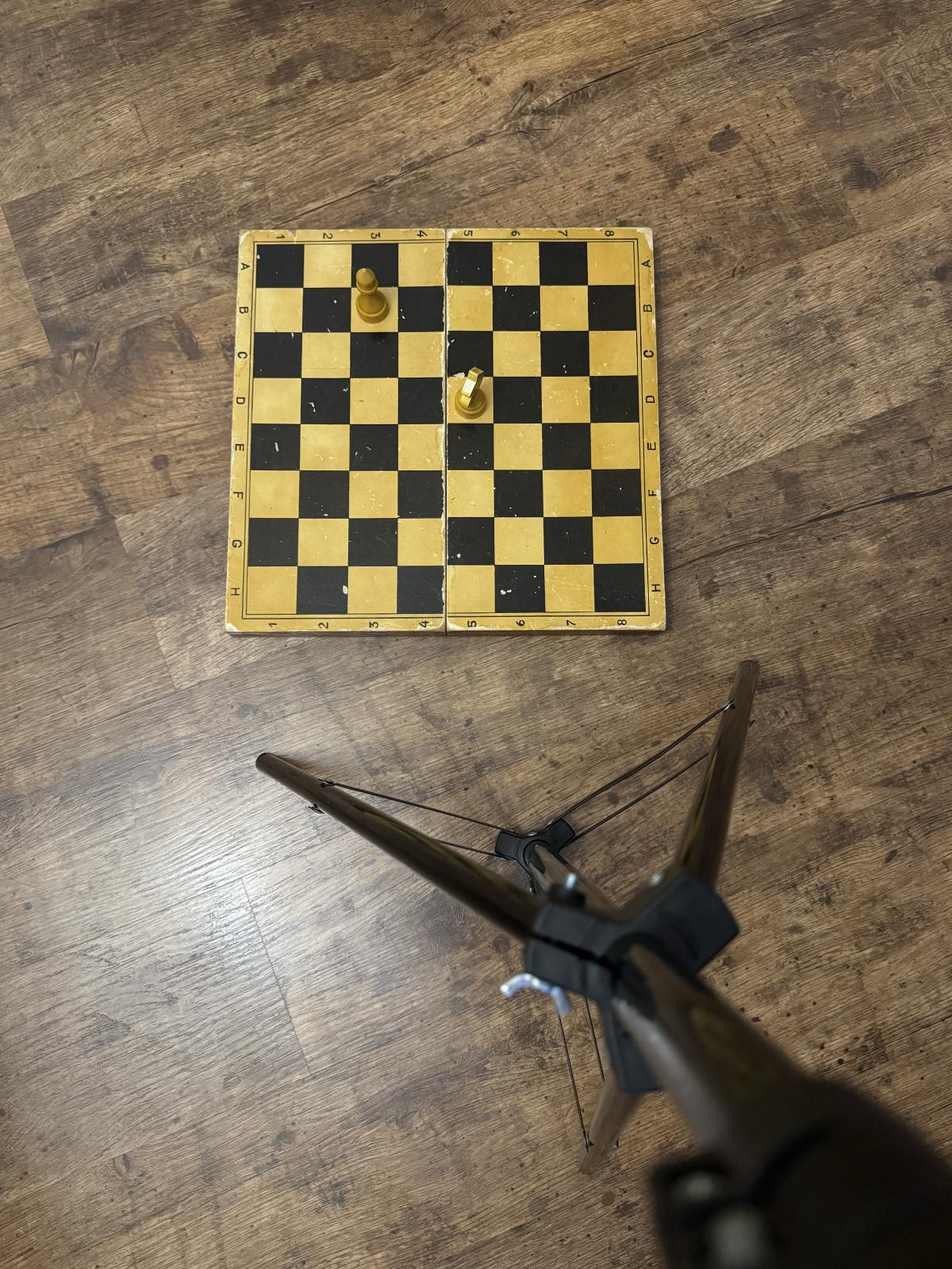Chess-Board: (246, 242, 646, 614)
